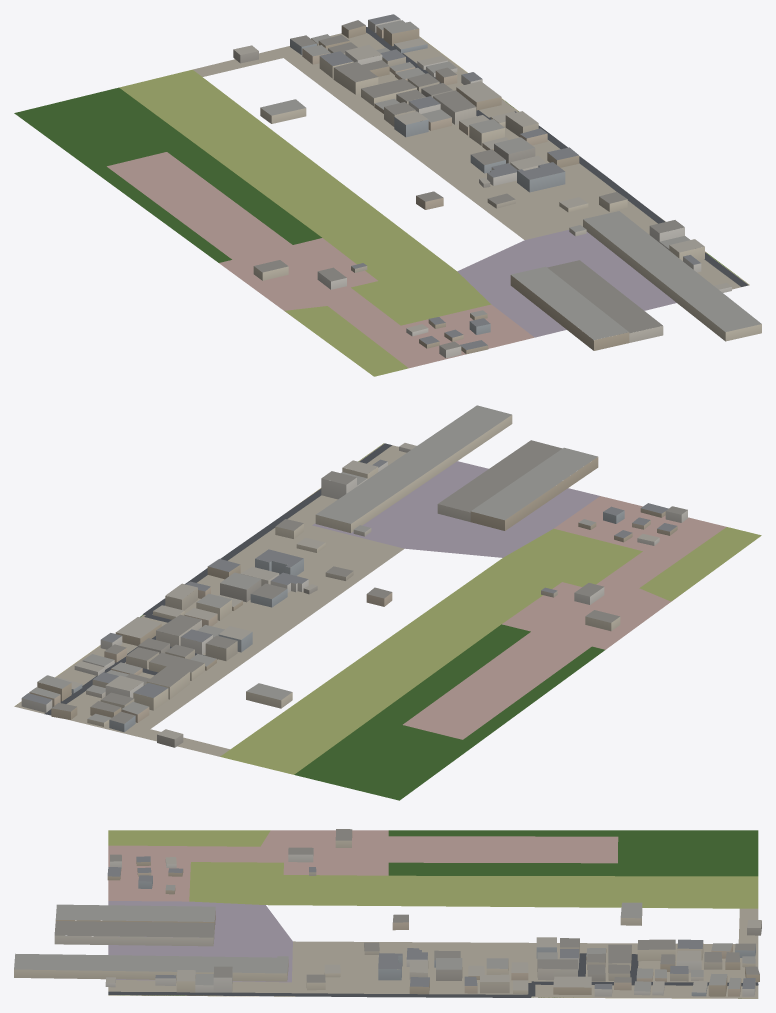
3 renders of one model, top to bottom at view 1: azimuth 30°, elevation 25°; view 2: azimuth 150°, elevation 25°; view 3: azimuth 270°, elevation 25°, orthographic. The views are drawn at different scales.
Parts seen in each view (by area): view 1: landuse, buildings_roofs, buildings_walls, roads; view 2: landuse, buildings_roofs, buildings_walls, roads; view 3: landuse, buildings_roofs, buildings_walls, roads.
Part boxes in pixels (left/top/right/bottom): landuse: left=14, top=27, right=749, bottom=376; buildings_roofs: left=234, top=14, right=761, bottom=349; buildings_walls: left=233, top=19, right=761, bottom=358; roads: left=366, top=27, right=748, bottom=286; landuse: left=14, top=443, right=761, bottom=800; buildings_roofs: left=22, top=405, right=687, bottom=739; buildings_walls: left=21, top=415, right=687, bottom=747; roads: left=44, top=443, right=391, bottom=715; landuse: left=108, top=830, right=758, bottom=998; buildings_roofs: left=14, top=829, right=761, bottom=992; buildings_walls: left=14, top=830, right=761, bottom=996; roads: left=108, top=953, right=758, bottom=997.
Bounding box in the file's own units: 307 × 12.8 × 575.
